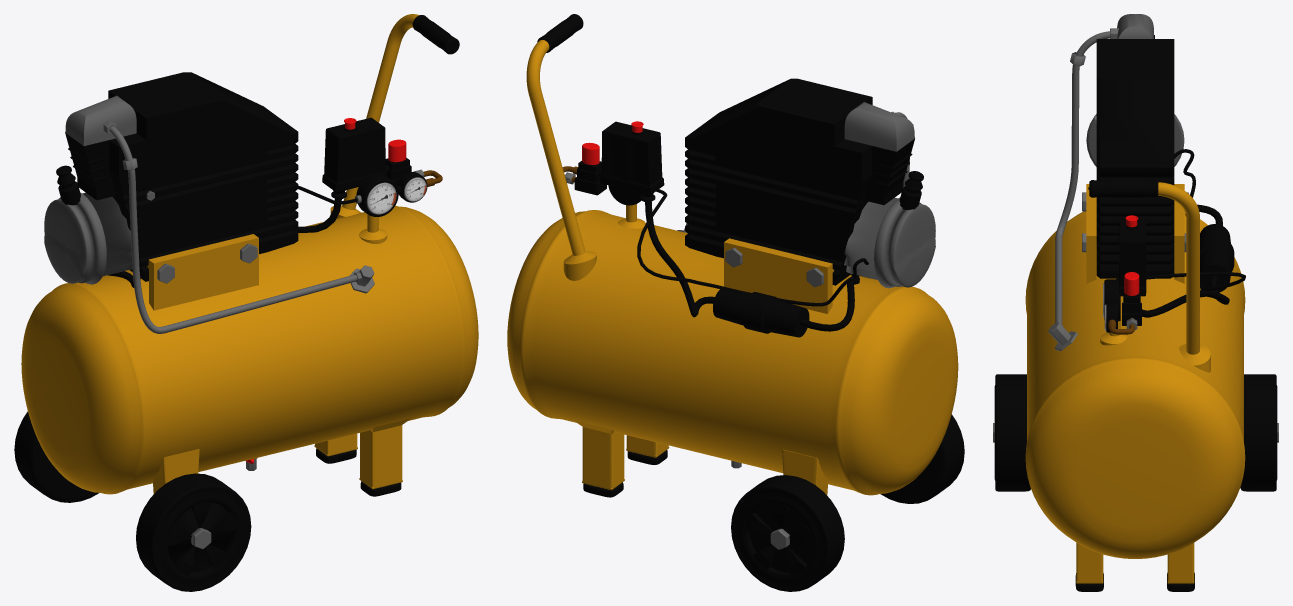
The model's file is compressor_practice_model.glb.
The picture shows the model from 3 angles, left to right: view 1: azimuth 30°, elevation 25°; view 2: azimuth 150°, elevation 25°; view 3: azimuth 270°, elevation 25°; orthographic projection. The views are drawn at different scales.
Parts seen in each view (by area): view 1: Object_3, Object_4, Object_7, Object_9, Object_6, Object_8, Object_12, Object_11; view 2: Object_3, Object_4, Object_7, Object_9, Object_6, Object_8, Object_5; view 3: Object_3, Object_4, Object_7, Object_6, Object_8, Object_9, Object_5, Object_10.
Part boxes in pixels (left/top/right/bottom): Object_3: left=21, top=14, right=478, bottom=494; Object_4: left=65, top=72, right=298, bottom=575; Object_7: left=14, top=15, right=459, bottom=591; Object_9: left=44, top=95, right=136, bottom=284; Object_6: left=295, top=117, right=405, bottom=496; Object_8: left=103, top=120, right=424, bottom=549; Object_12: left=366, top=177, right=426, bottom=214; Object_11: left=368, top=178, right=425, bottom=212; Object_3: left=507, top=40, right=958, bottom=495; Object_4: left=685, top=78, right=914, bottom=575; Object_7: left=537, top=14, right=964, bottom=591; Object_9: left=844, top=102, right=935, bottom=288; Object_6: left=582, top=121, right=868, bottom=497; Object_8: left=565, top=111, right=913, bottom=549; Object_5: left=574, top=161, right=606, bottom=195; Object_3: left=1025, top=182, right=1245, bottom=583; Object_4: left=1096, top=35, right=1222, bottom=278; Object_7: left=994, top=180, right=1277, bottom=491; Object_6: left=1075, top=149, right=1245, bottom=591; Object_8: left=993, top=28, right=1278, bottom=442; Object_9: left=1086, top=14, right=1184, bottom=166; Object_5: left=1122, top=289, right=1141, bottom=325; Object_10: left=1124, top=215, right=1139, bottom=295.
Size of the model in its own units: 0.6237 by 0.6923 by 0.3958.
8 materials, 1 textured.
